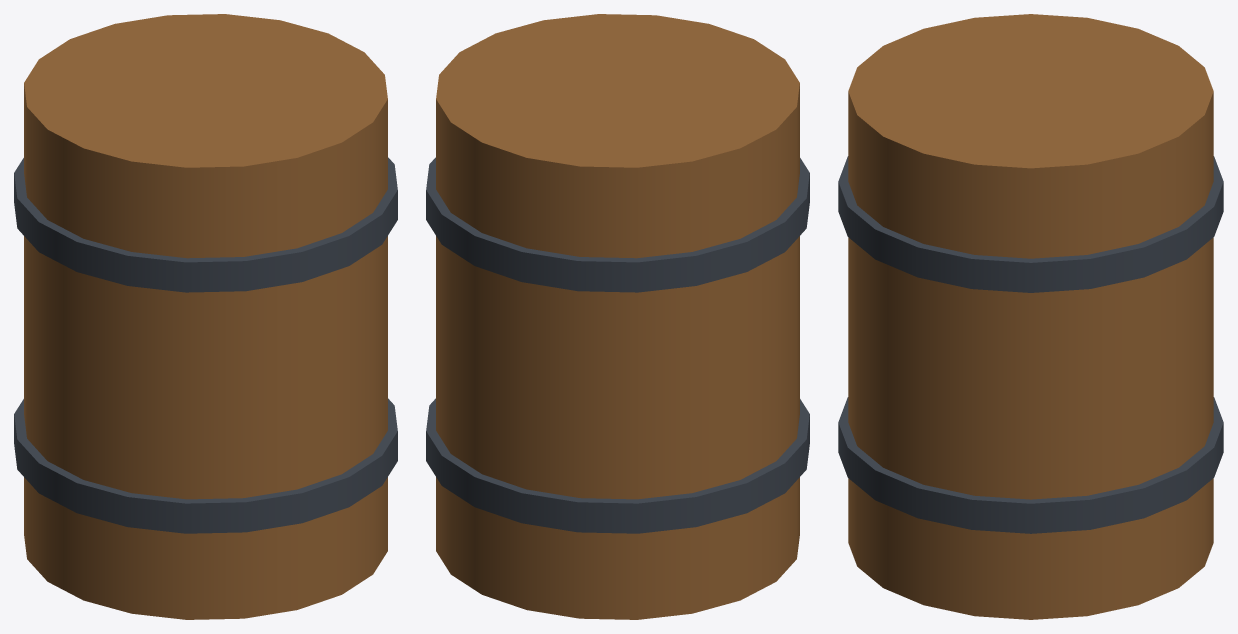
Rendered from barrel.glb.
3 renders of one model, left to right at view 1: azimuth 30°, elevation 25°; view 2: azimuth 150°, elevation 25°; view 3: azimuth 270°, elevation 25°, orthographic.
Bounding box in the file's own units: 1.16 × 1.5 × 1.16.
